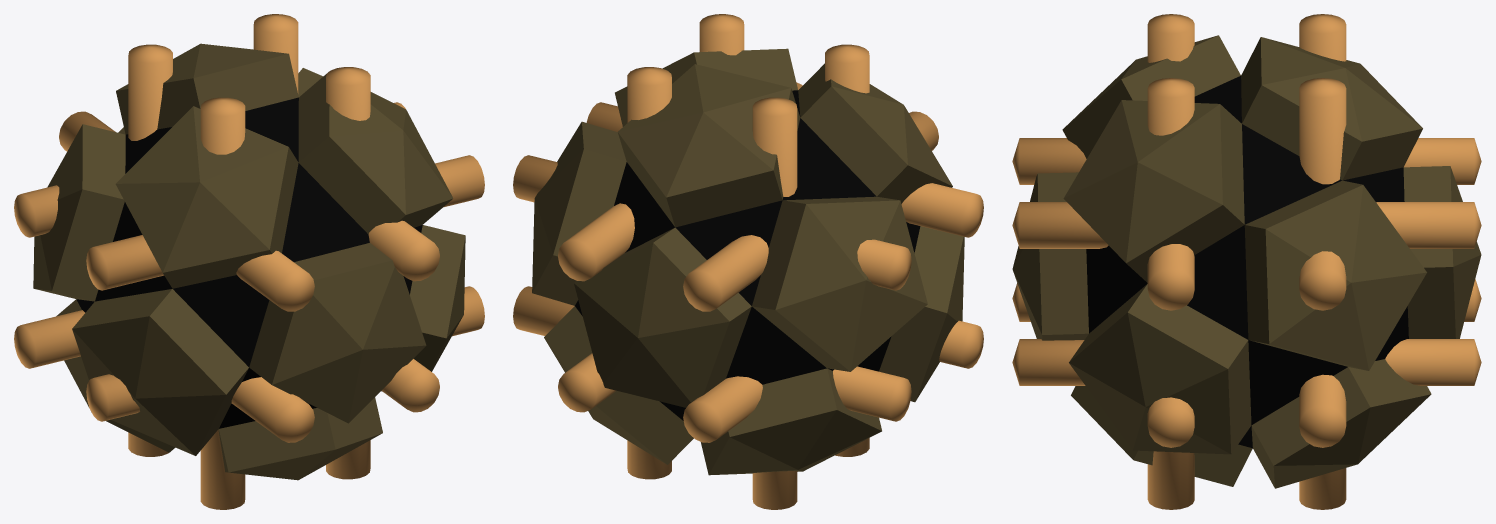
File: BlackHole.Big.01.fbx
3 views of the same model, side by side, from view 1: azimuth 30°, elevation 25°; view 2: azimuth 150°, elevation 25°; view 3: azimuth 270°, elevation 25° (orthographic). The views are drawn at different scales.
Visible parts, largest first — view 1: B.BH.Big.01; view 2: B.BH.Big.01; view 3: B.BH.Big.01.
Part boxes in pixels (x1,y1,x2,y2): B.BH.Big.01: (14, 14, 484, 509); B.BH.Big.01: (513, 14, 983, 509); B.BH.Big.01: (1012, 14, 1481, 509).
Size of the model in its own units: 275 by 275 by 275.
